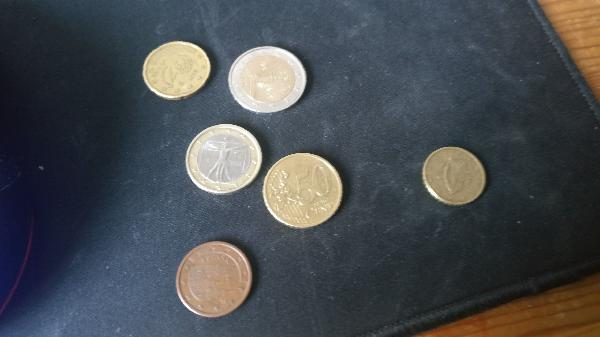Fifty Cent: (259, 147, 349, 225)
Five Cent: (174, 239, 261, 318)
One Euro: (187, 124, 261, 193)
Ten Cent: (420, 145, 491, 205)
Twenty Cent: (142, 41, 209, 100)
Two Euro: (228, 45, 310, 116)
